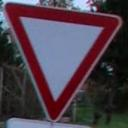preferencia: (6, 0, 124, 124)
